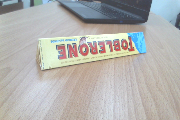Chocolate: (28, 28, 155, 74)
